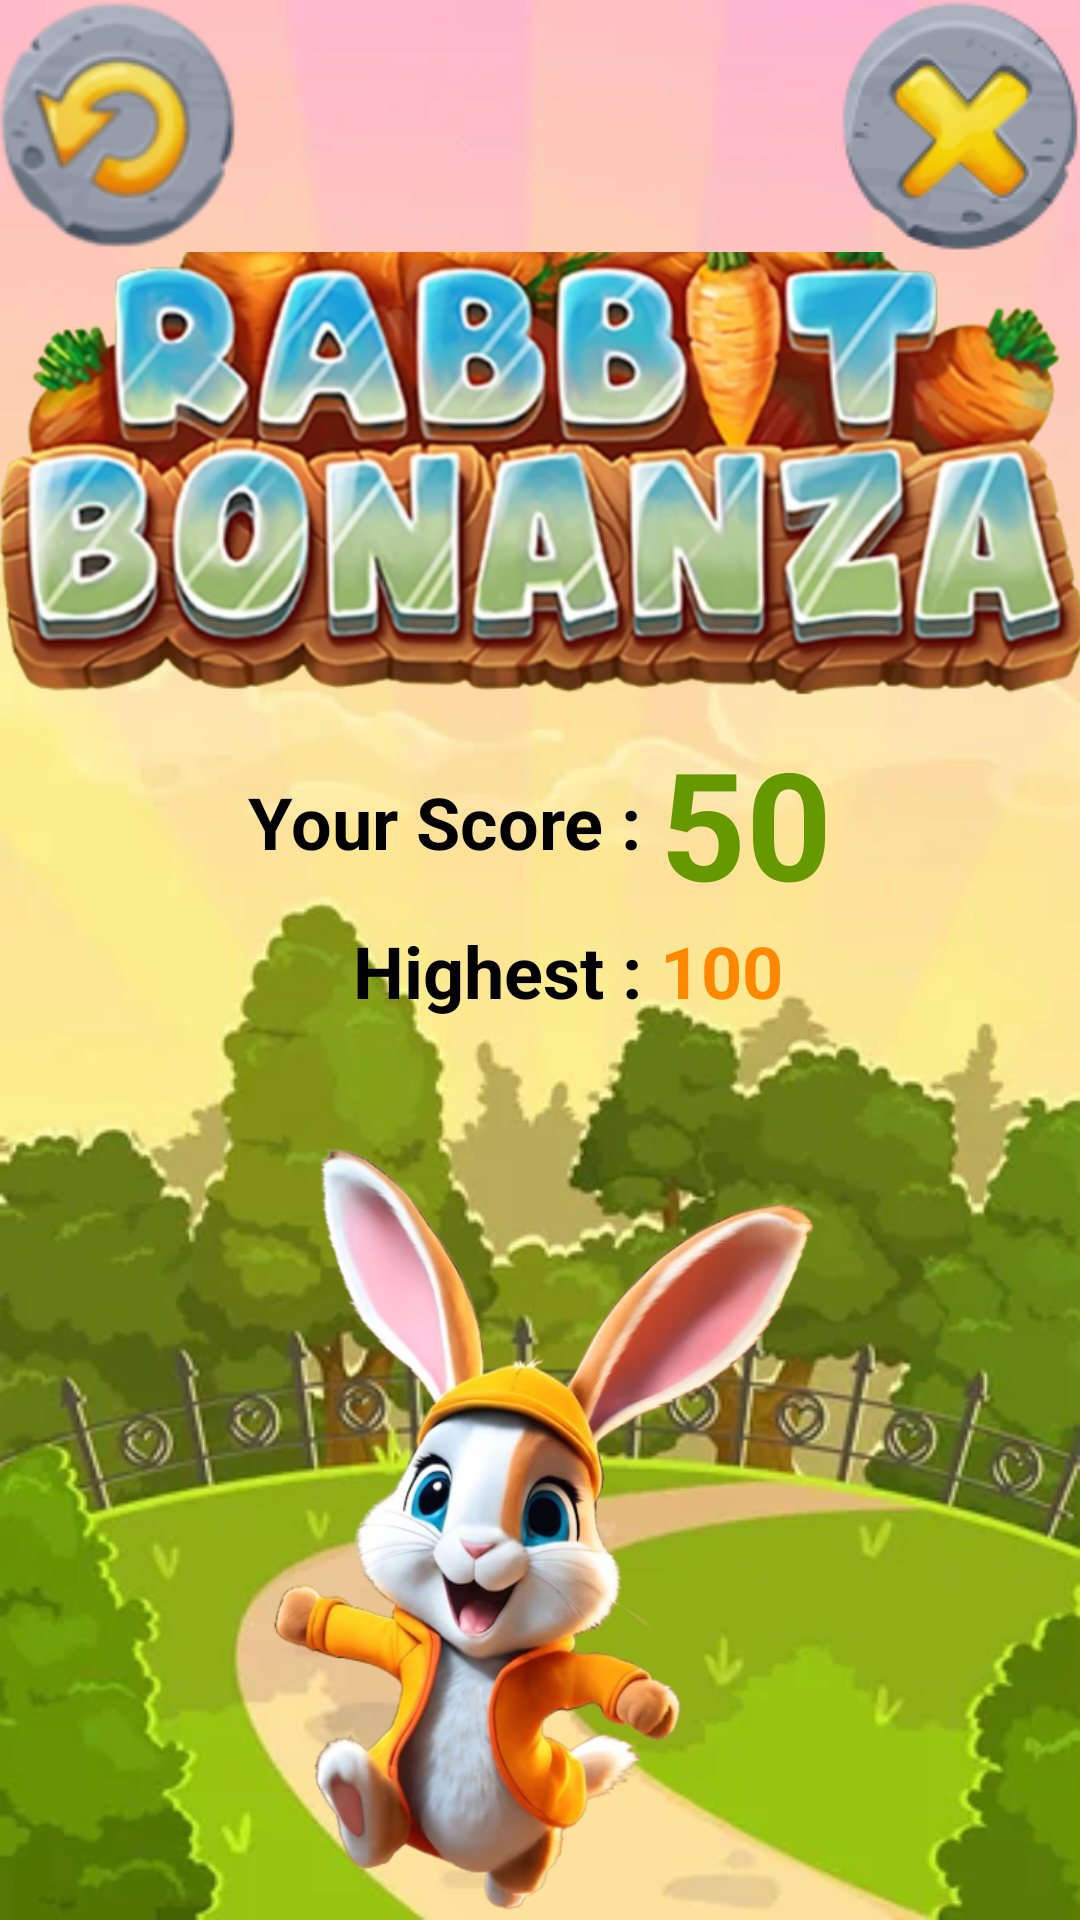

Where icons sit on this 1080 x 1920 app screen, as (x1=x1, y1=y1, x2=x2, y2=y2):
exitbutton: (x1=842, y1=3, x2=1078, y2=250)
replaybutton: (x1=0, y1=4, x2=235, y2=247)
